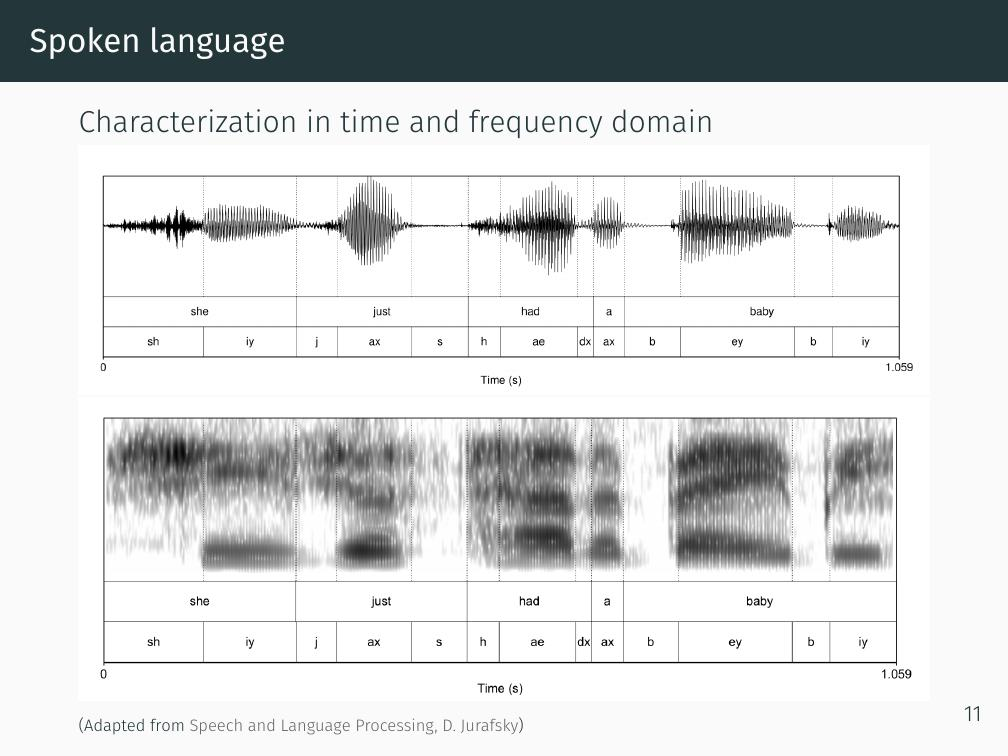Title: (19, 23, 291, 64)
